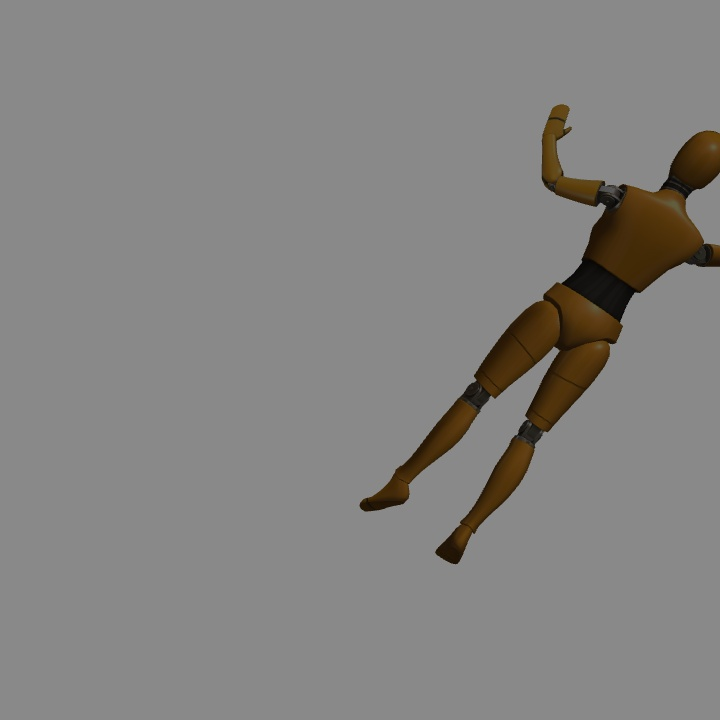victim: (362, 128, 720, 563)
